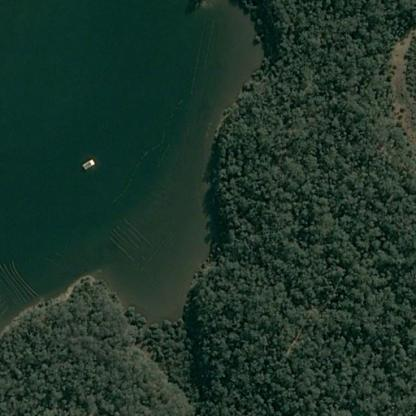ship: (74, 154, 99, 173)
